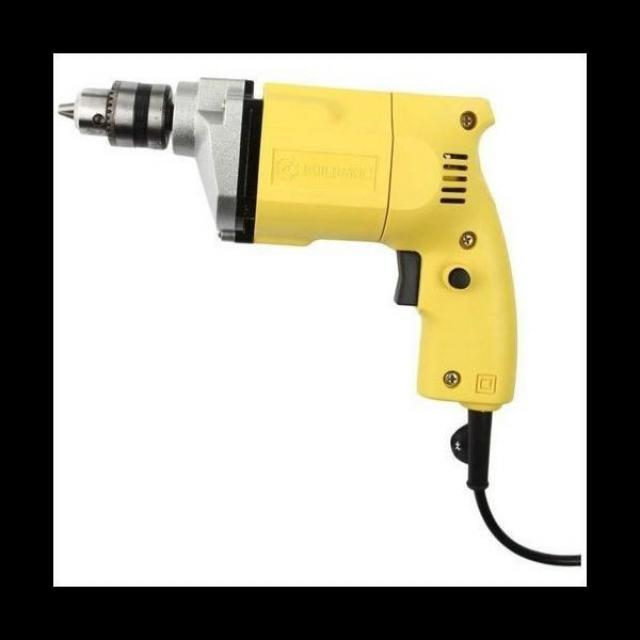drill: (58, 77, 518, 490)
